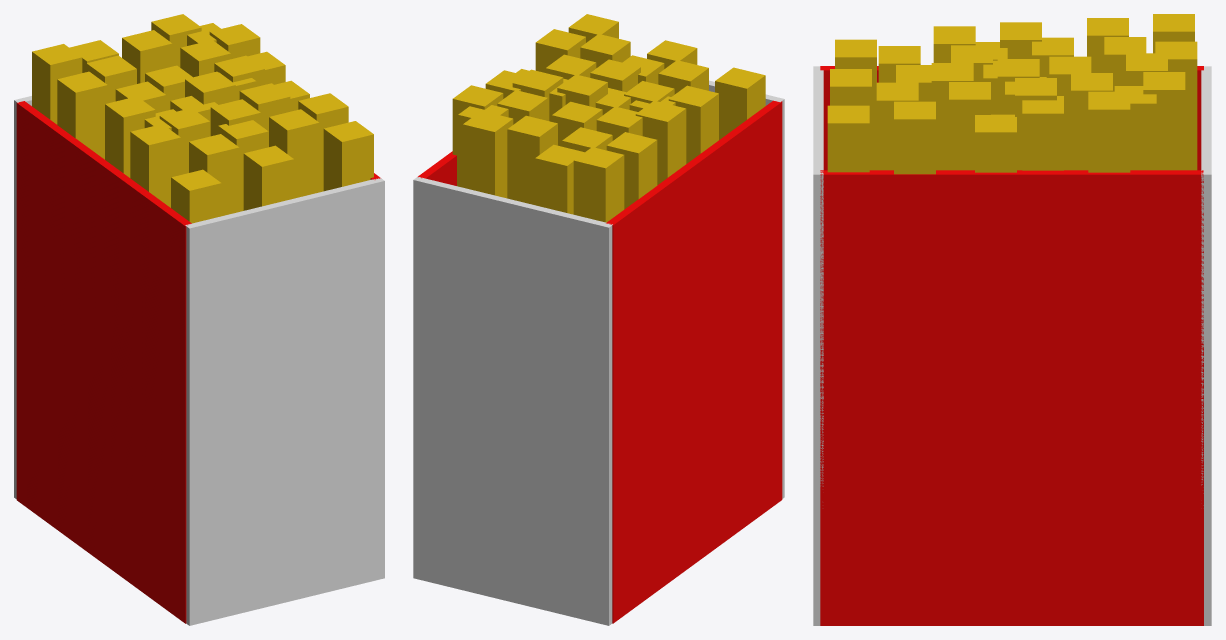
Rendered from FryboxFull.dae.
3 renders of one model, left to right at view 1: azimuth 30°, elevation 25°; view 2: azimuth 150°, elevation 25°; view 3: azimuth 270°, elevation 25°, orthographic. The views are drawn at different scales.
Parts seen in each view (by area): view 1: Cube.002, Cube.007, Cube.023, Cube.025, Cube.028, Cube.017, Cube.020, Cube.008, Cube.024, Cube.006, Cube.015, Cube.026 (+15 smaller); view 2: Cube.002, Cube.013, Cube.008, Cube.015, Cube.024, Cube.006, Cube.014, Cube.007, Cube.023, Cube.026, Cube.001, Cube.010 (+16 smaller); view 3: Cube.002, Cube.010, Cube.013, Cube.026, Cube.009, Cube.025, Cube.029, Cube.016, Cube.014, Cube.022, Cube.012, Cube.028 (+16 smaller).
Part boxes in pixels (box(x1,y1,x2,y2)): Cube.002: box(14, 96, 384, 625); Cube.007: box(57, 71, 107, 159); Cube.023: box(130, 124, 180, 207); Cube.025: box(323, 121, 373, 191); Cube.028: box(269, 109, 319, 198); Cube.017: box(243, 145, 293, 210); Cube.020: box(189, 134, 239, 215); Cube.008: box(32, 44, 82, 124); Cube.024: box(105, 96, 155, 177); Cube.006: box(171, 169, 221, 223); Cube.015: box(122, 30, 172, 83); Cube.026: box(298, 93, 348, 192); Cube.002: box(413, 80, 784, 625); Cube.013: box(463, 111, 513, 198); Cube.008: box(573, 147, 624, 222); Cube.015: box(507, 115, 557, 204); Cube.024: box(635, 100, 686, 184); Cube.006: box(715, 67, 765, 139); Cube.014: box(535, 144, 584, 214); Cube.007: box(606, 132, 657, 209); Cube.023: box(668, 85, 718, 163); Cube.026: box(535, 29, 585, 72); Cube.001: box(552, 101, 602, 146); Cube.010: box(452, 85, 503, 186); Cube.002: box(813, 66, 1211, 625); Cube.010: box(1088, 91, 1130, 172); Cube.013: box(1143, 72, 1185, 170); Cube.026: box(894, 101, 935, 174); Cube.009: box(1022, 96, 1063, 170); Cube.025: box(827, 105, 869, 172); Cube.029: box(949, 82, 990, 170); Cube.016: box(975, 114, 1016, 172); Cube.014: box(1155, 41, 1197, 170); Cube.022: box(1114, 86, 1156, 170); Cube.012: box(1071, 73, 1112, 170); Cube.028: box(876, 82, 918, 170).
Bounding box in the file's own units: 0.0646 × 0.1 × 0.1427.
